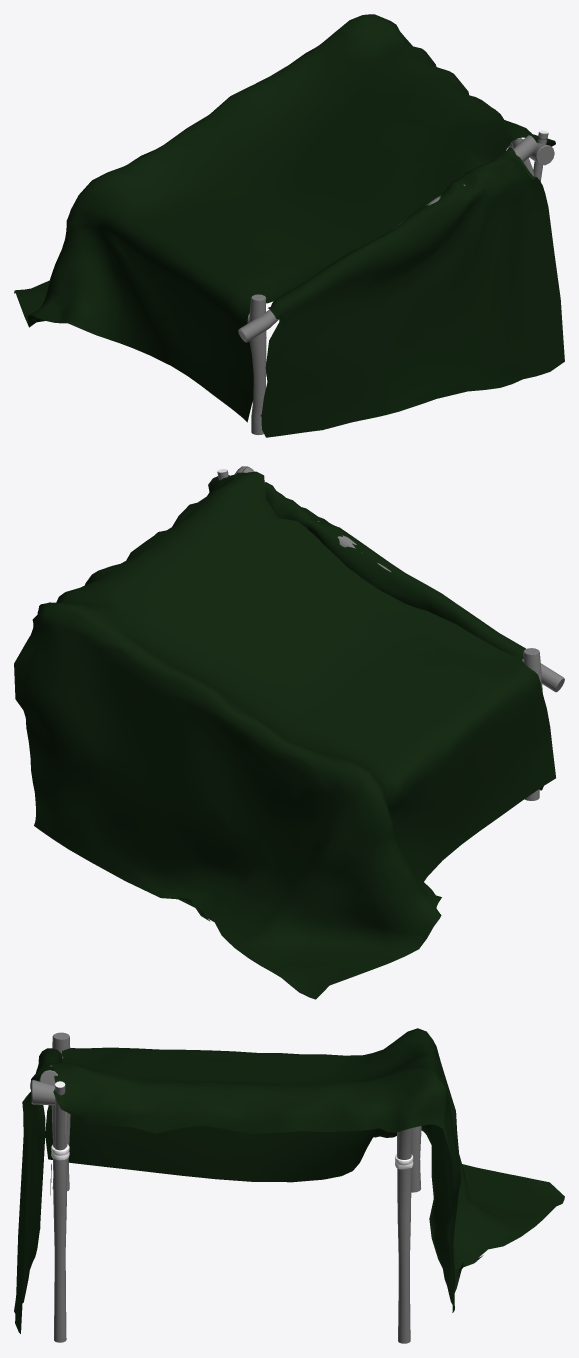
The model's file is Tante_02.fbx.
3 views of the same model, one above another, from view 1: azimuth 30°, elevation 25°; view 2: azimuth 150°, elevation 25°; view 3: azimuth 270°, elevation 25° (orthographic). The views are drawn at different scales.
Visible parts, largest first — view 1: Tante_02; view 2: Tante_02; view 3: Tante_02.
Boxes of the visible parts, x1,y1,x2,y2 form: Tante_02: (14, 14, 564, 437); Tante_02: (14, 466, 564, 999); Tante_02: (14, 1028, 564, 1343).
Size of the model in its own units: 446 by 288 by 497.
